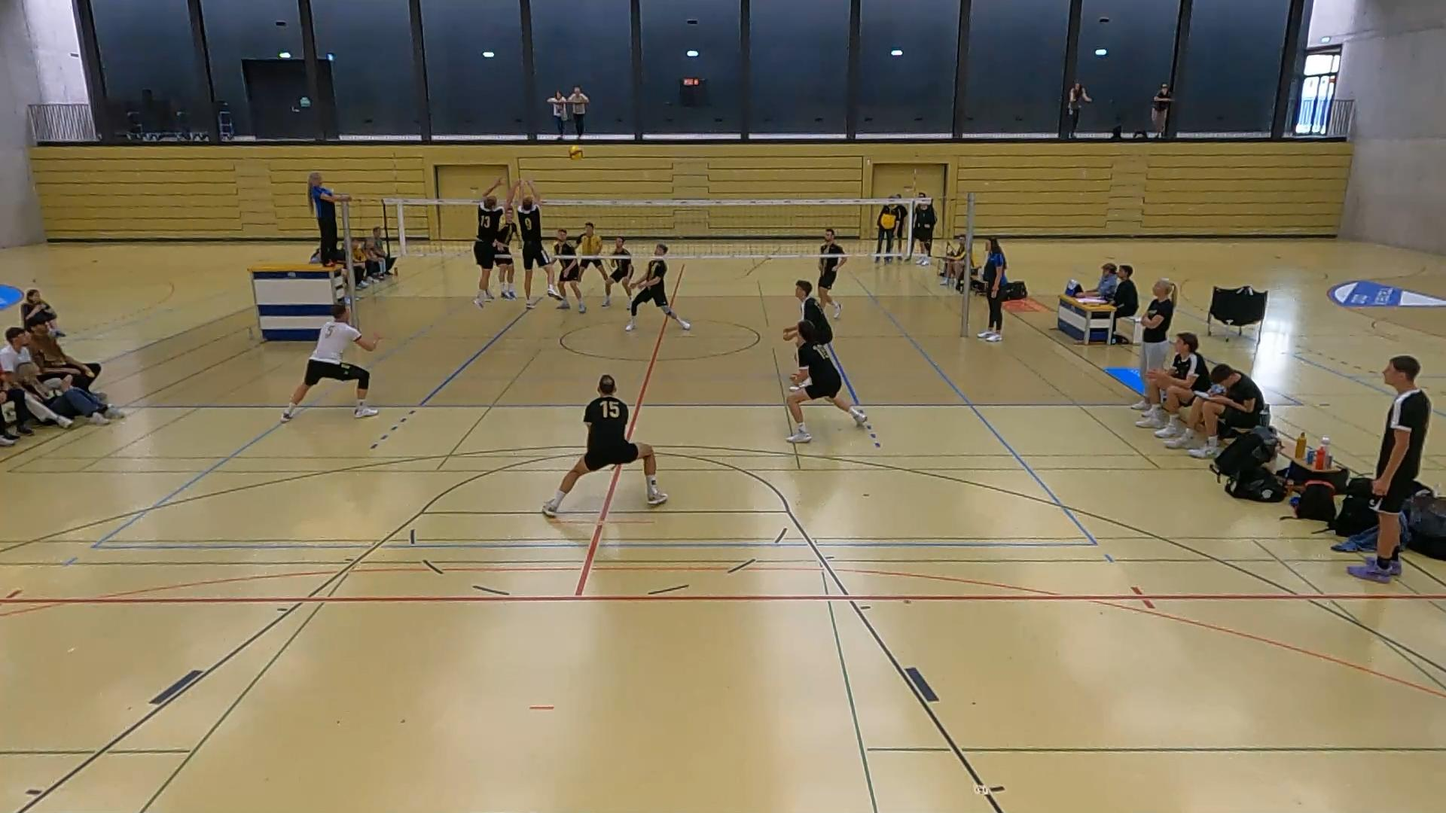attacco: (490, 203, 522, 302)
muro: (469, 178, 528, 310), (507, 175, 562, 306)
